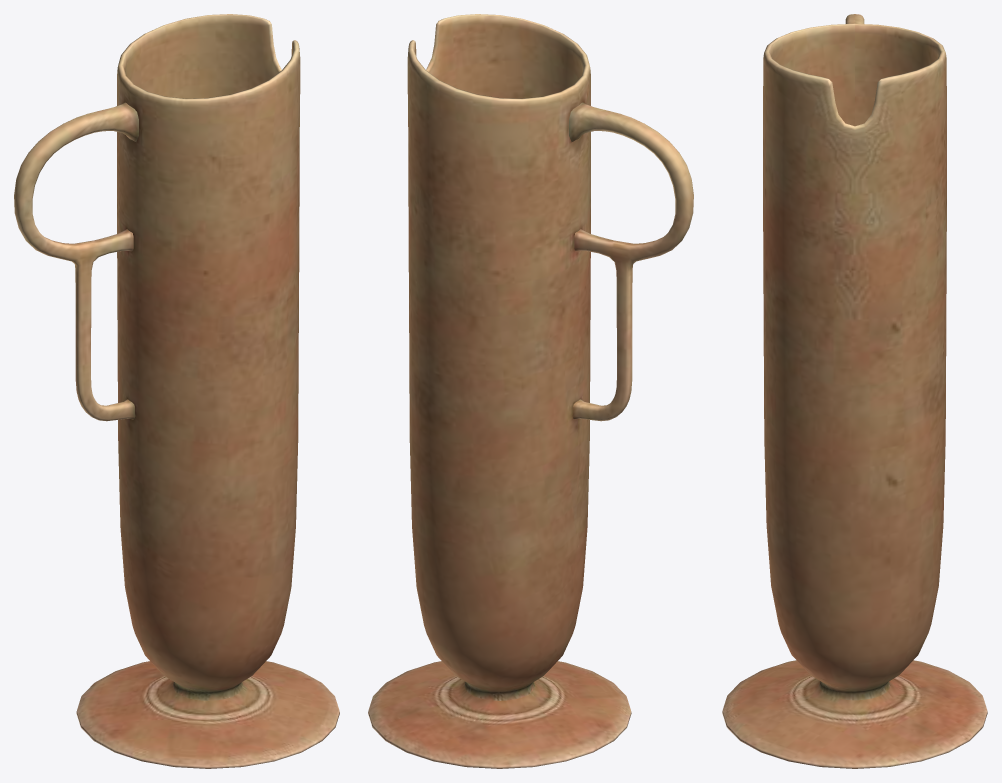
3 renders of one model, left to right at view 1: azimuth 30°, elevation 25°; view 2: azimuth 150°, elevation 25°; view 3: azimuth 270°, elevation 25°, orthographic.
Visible parts, largest first — view 1: brass_vase_04; view 2: brass_vase_04; view 3: brass_vase_04.
Boxes of the visible parts, bbox=[...] form: brass_vase_04: bbox=[14, 14, 339, 768]; brass_vase_04: bbox=[368, 14, 693, 768]; brass_vase_04: bbox=[722, 14, 987, 768].
Size of the model in its own units: 0.082 by 0.1703 by 0.061.
Materials: 1 (1 with a texture image).
